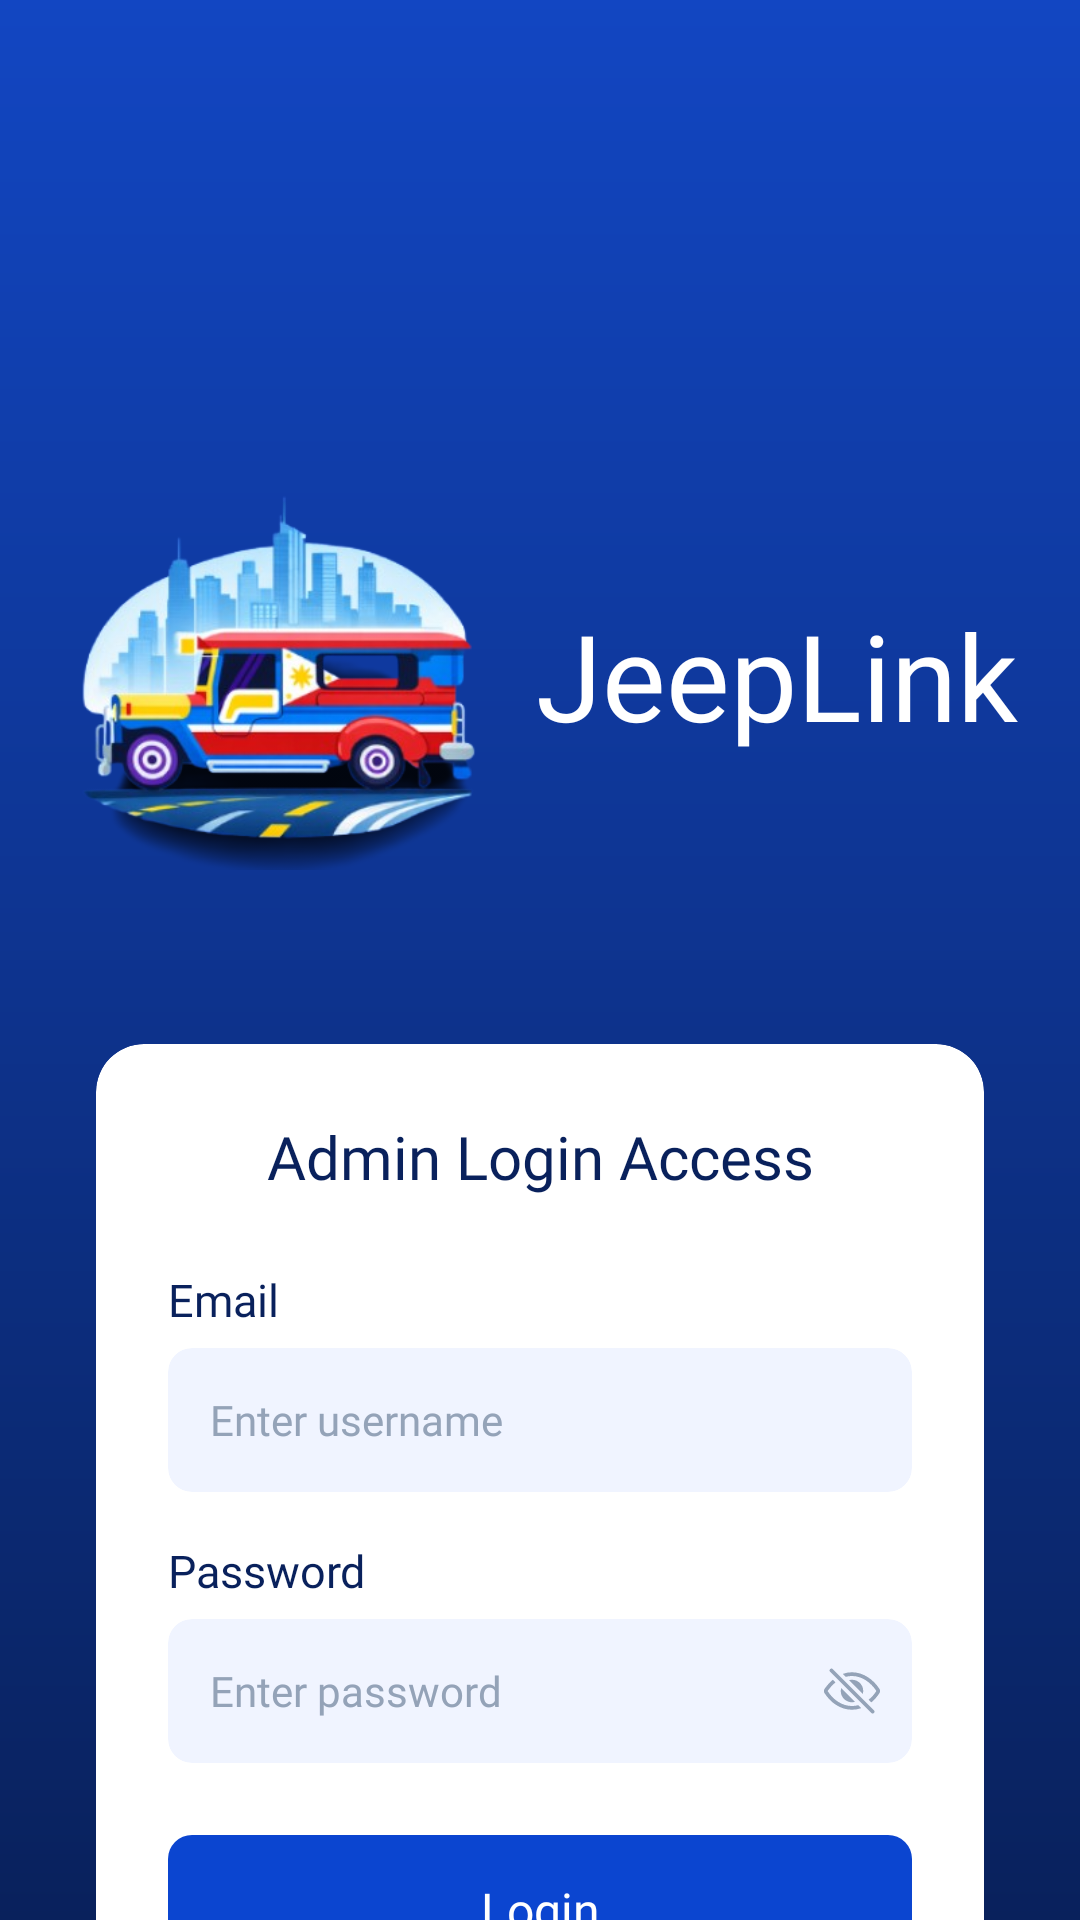

Icon click points for this 1080x1920 phone screenshot, format point (x, y):
eye off: point (852, 1691)
